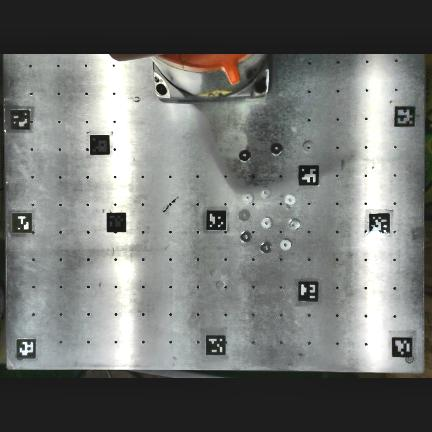marker: (394, 107, 415, 128), (12, 213, 32, 234), (370, 214, 390, 234), (299, 166, 319, 186), (298, 282, 318, 302), (206, 337, 226, 357), (10, 111, 29, 132), (207, 210, 226, 231), (392, 338, 412, 357), (17, 339, 36, 359), (107, 213, 126, 232), (90, 136, 109, 154)
washer: (270, 143, 281, 154), (238, 150, 249, 161), (259, 187, 270, 197), (284, 193, 294, 204), (288, 218, 298, 229), (238, 209, 248, 219), (240, 231, 250, 241), (261, 217, 271, 227), (280, 238, 289, 249), (260, 242, 269, 252), (243, 192, 252, 202)
